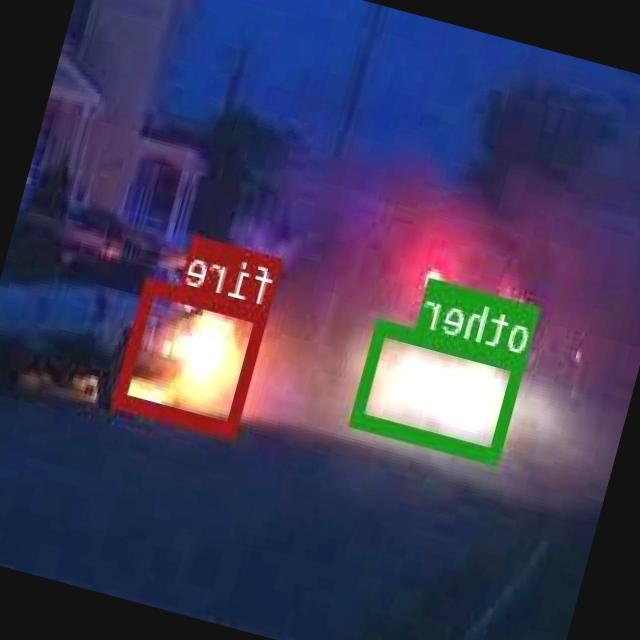fire: (116, 276, 272, 438)
